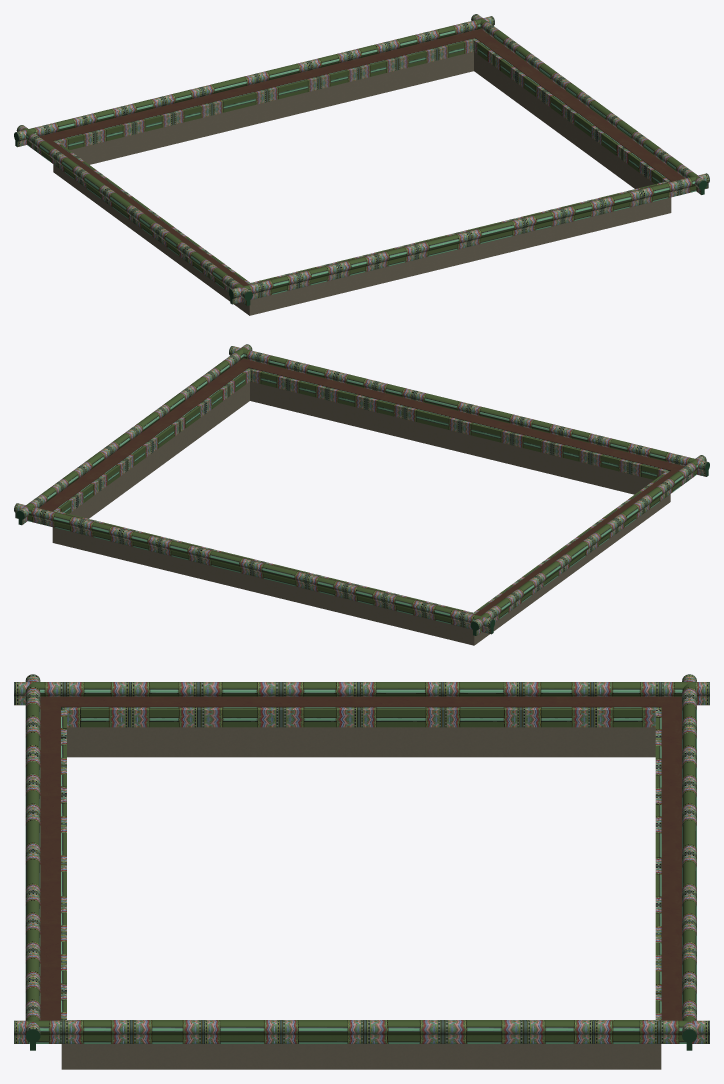
Rendered from SM_Geumsan_Mi_Dori_A.fbx.
The picture shows the model from 3 angles, top to bottom: view 1: azimuth 30°, elevation 25°; view 2: azimuth 150°, elevation 25°; view 3: azimuth 270°, elevation 25°; orthographic projection. The views are drawn at different scales.
Parts seen in each view (by area): view 1: SM_Geumsan_Mi_Dori_A; view 2: SM_Geumsan_Mi_Dori_A; view 3: SM_Geumsan_Mi_Dori_A.
Boxes of the visible parts, bbox=[...] form: SM_Geumsan_Mi_Dori_A: bbox=[14, 14, 709, 315]; SM_Geumsan_Mi_Dori_A: bbox=[14, 344, 709, 645]; SM_Geumsan_Mi_Dori_A: bbox=[14, 674, 709, 1069].
Size of the model in its own units: 2020 by 161 by 1673.
